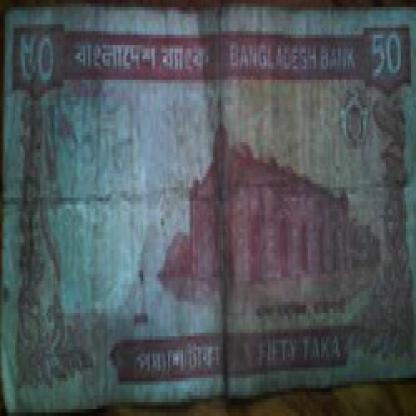Fifty taka: (358, 24, 409, 97), (17, 24, 65, 94)
